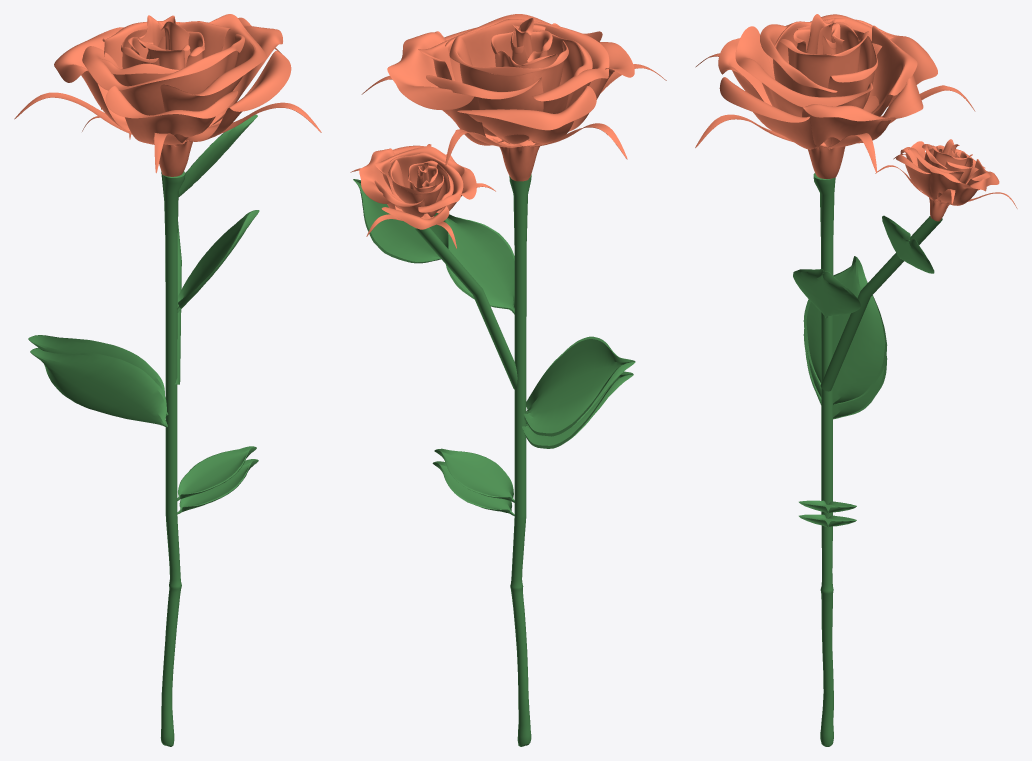
Rendered from rosepeachcp.glb.
3 views of the same model, side by side, from view 1: azimuth 30°, elevation 25°; view 2: azimuth 150°, elevation 25°; view 3: azimuth 270°, elevation 25° (orthographic).
Parts seen in each view (by area): view 1: List-02; view 2: List-02; view 3: List-02.
Boxes of the visible parts, x1,y1,x2,y2 form: List-02: [14, 14, 321, 746]; List-02: [350, 14, 666, 746]; List-02: [695, 14, 1017, 746].
Size of the model in its own units: 1.59 by 4.14 by 1.66.
